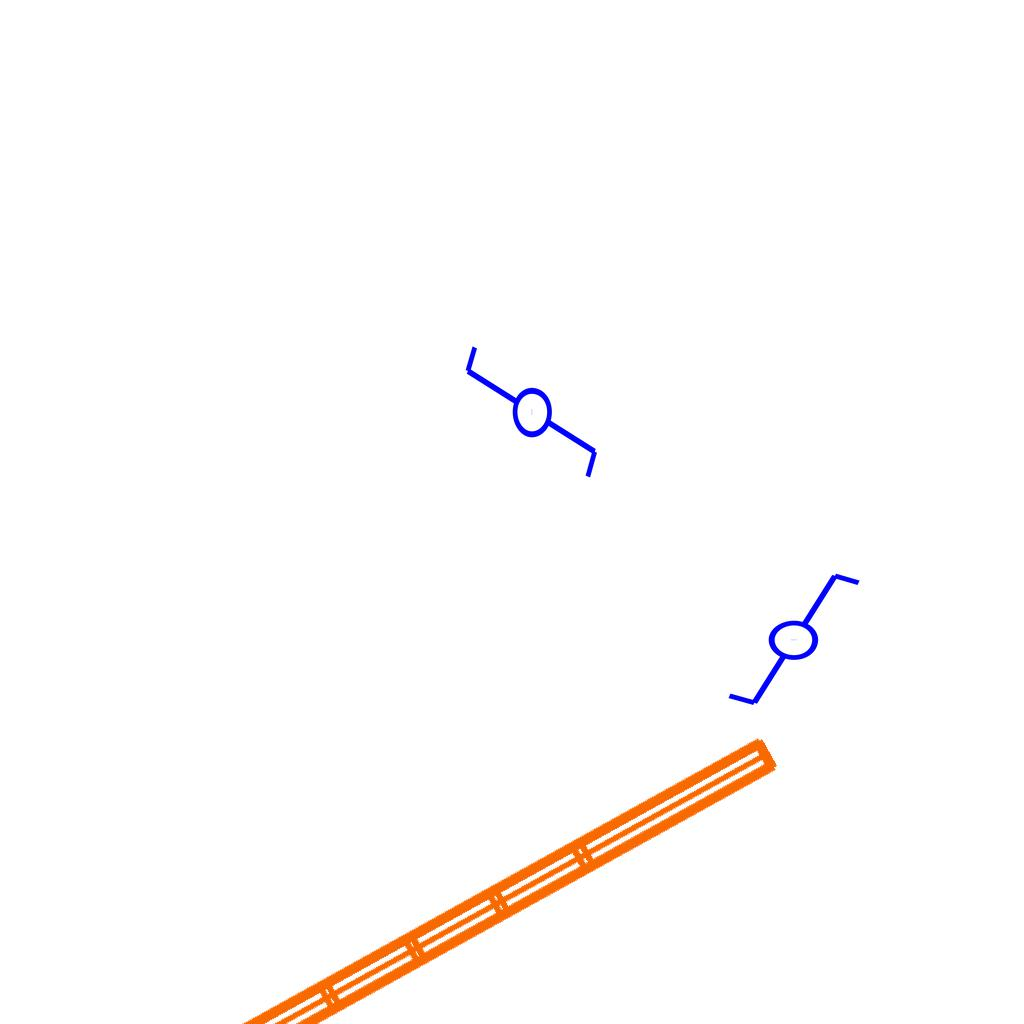Ambulanz_Pendelleuchte_LED: (87, 720, 819, 1024)
Wechselschalter: (707, 566, 864, 710), (458, 342, 602, 499)
